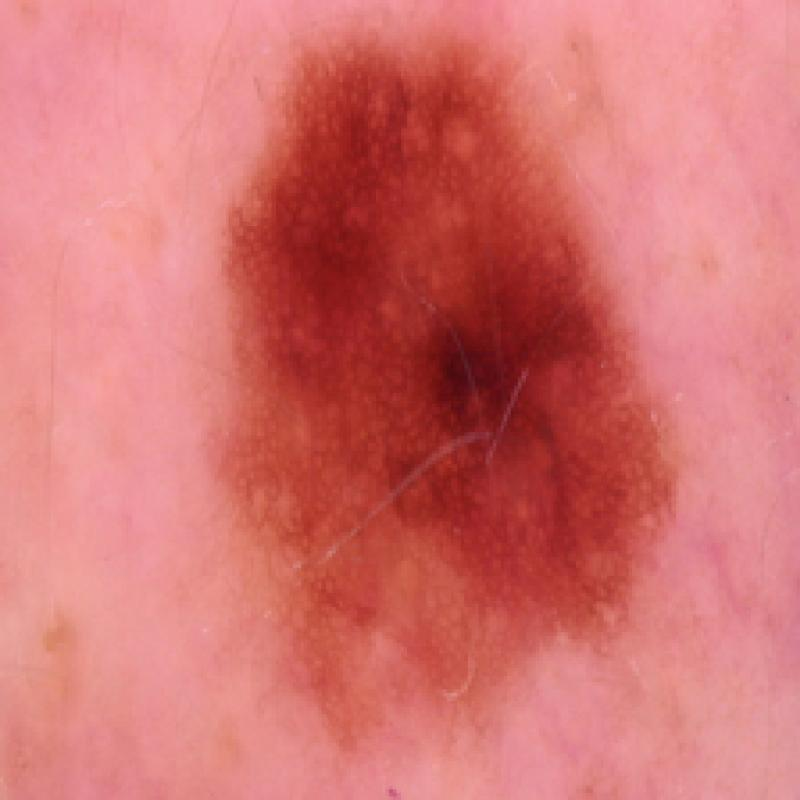benign: (197, 18, 707, 764)
